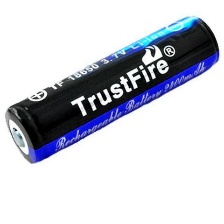battery: (2, 13, 222, 168)
